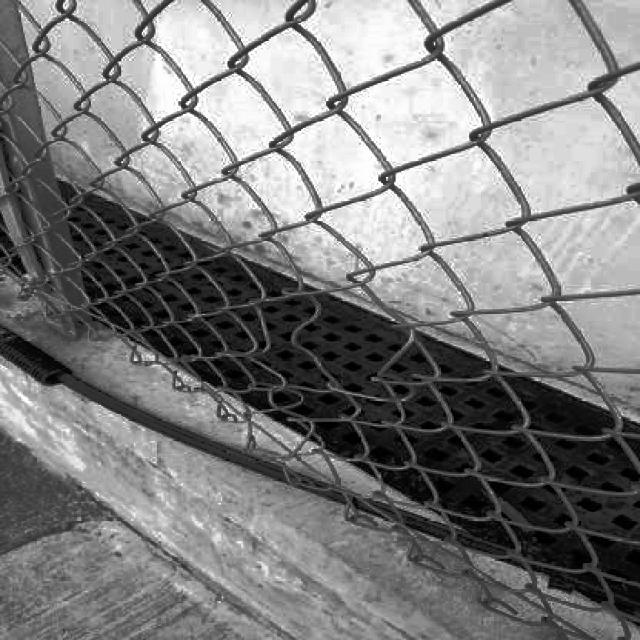anomaly-fence: (212, 257, 428, 465)
